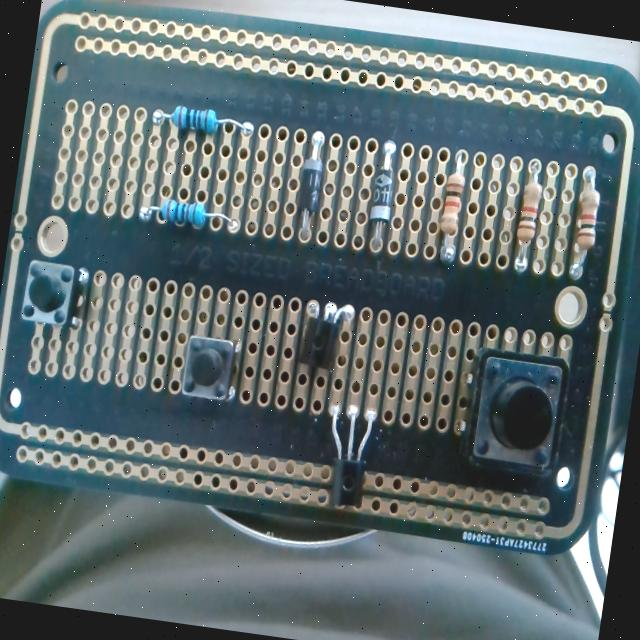diode: (364, 142, 400, 252), (294, 130, 329, 240)
resistor: (432, 147, 473, 266), (140, 193, 242, 236), (566, 168, 603, 284), (152, 101, 254, 141), (512, 160, 546, 272)
switch: (464, 347, 572, 476), (18, 257, 79, 329), (180, 333, 240, 402)
transistor: (320, 402, 378, 508), (296, 296, 358, 378)
